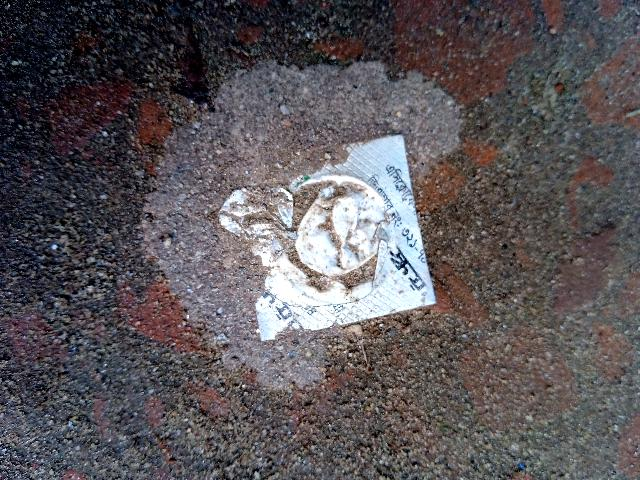medicine: (234, 135, 446, 345)
